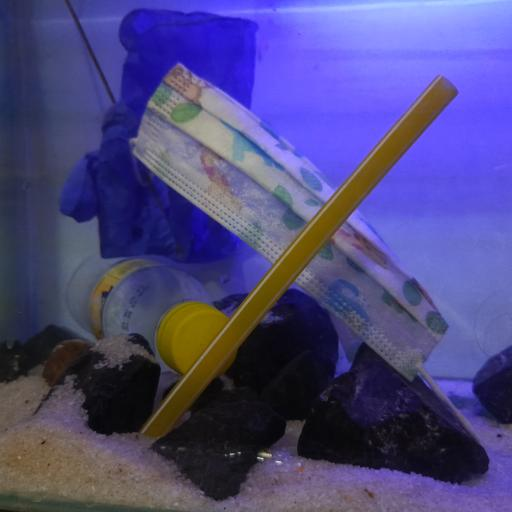bottle_cap: (163, 306, 239, 378)
glove: (58, 10, 258, 260)
mask: (133, 64, 451, 382)
plastic_bottle: (65, 258, 239, 378)
plastic_straw: (134, 74, 460, 434)
